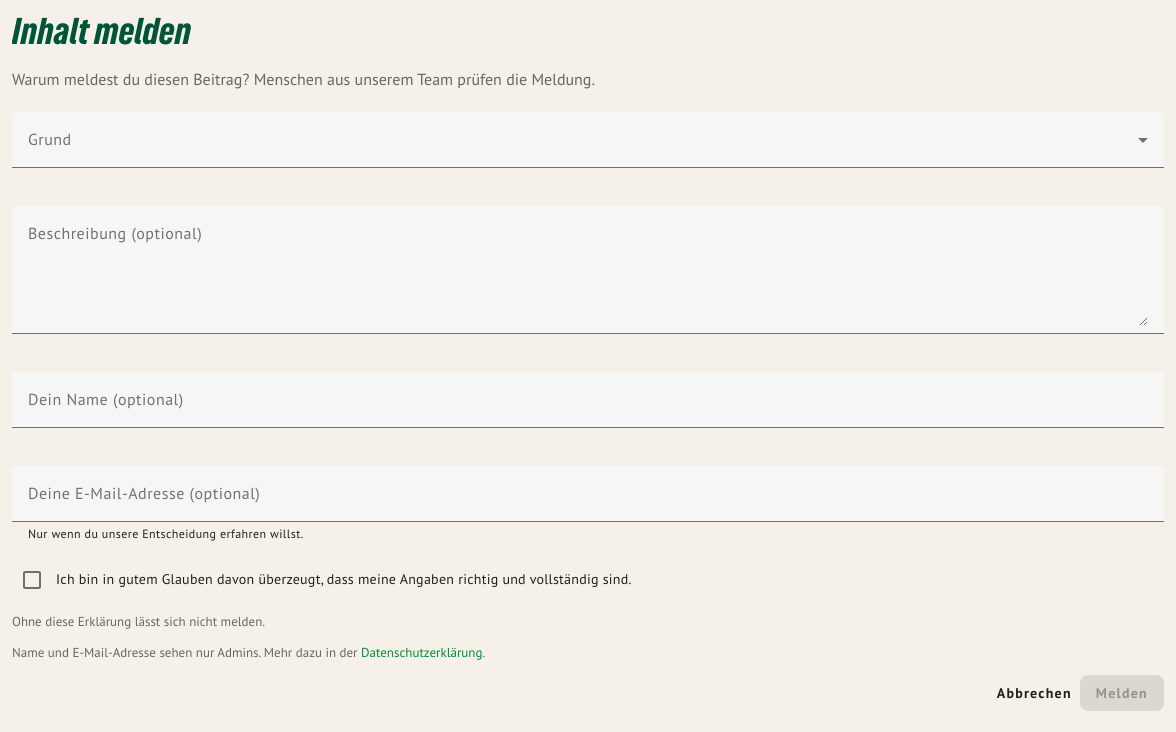
ReportDialogComponent › bittet bei 422 darum, die Angaben zu prüfen, und schreibt keine Antwort ins Log
Type "anna@beispiel.org" into the field named "melder_email" at x=588, y=502, box [28, 490, 1148, 514]
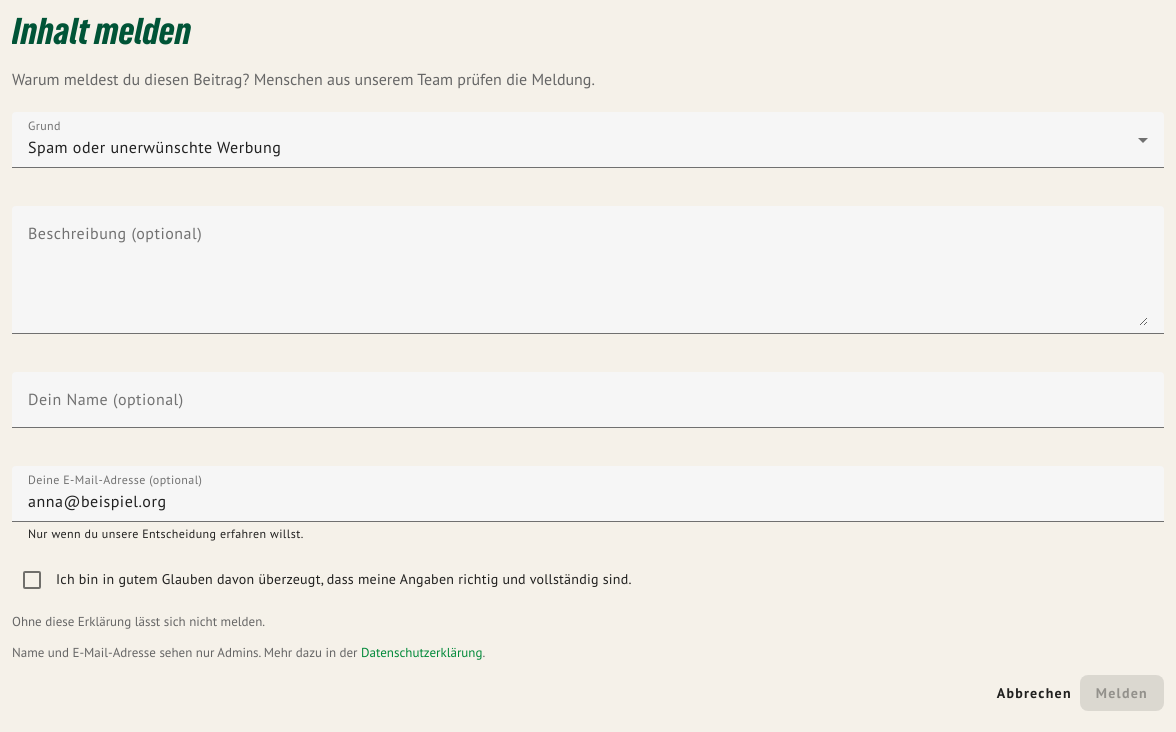
Click the checkbox at x=342, y=580, box [52, 570, 632, 590]
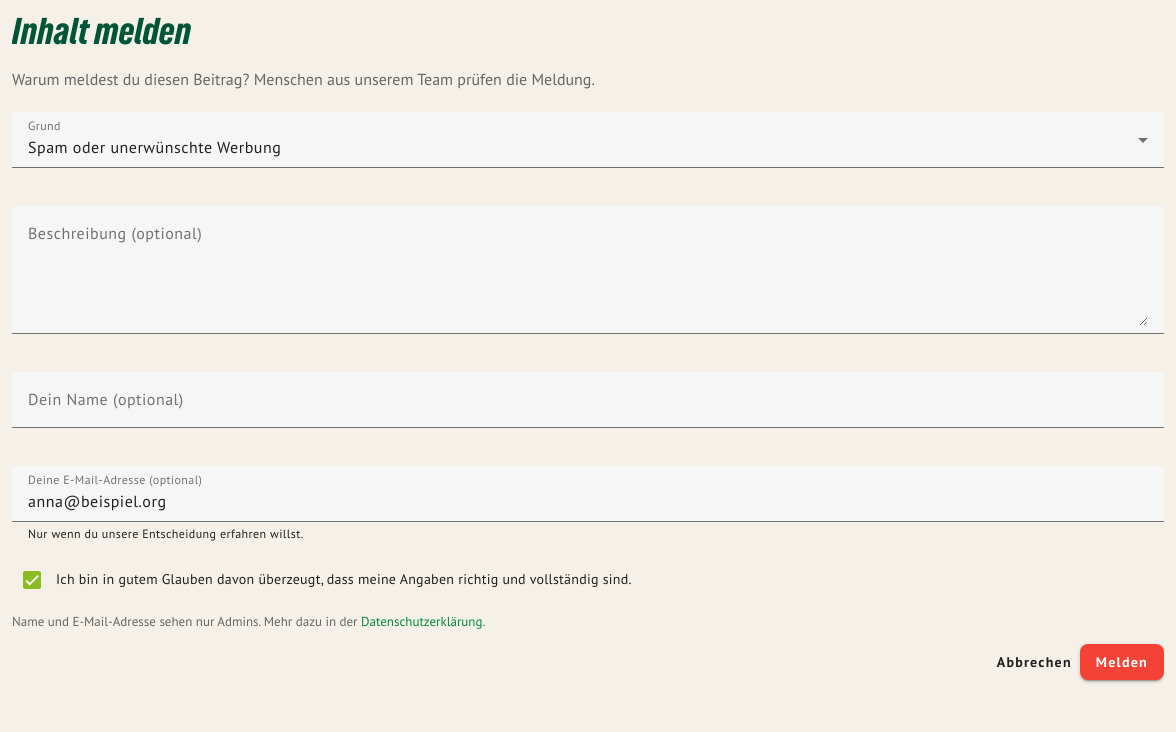
Click the button with test id "melden-senden" at x=1122, y=662, box [1080, 644, 1164, 680]
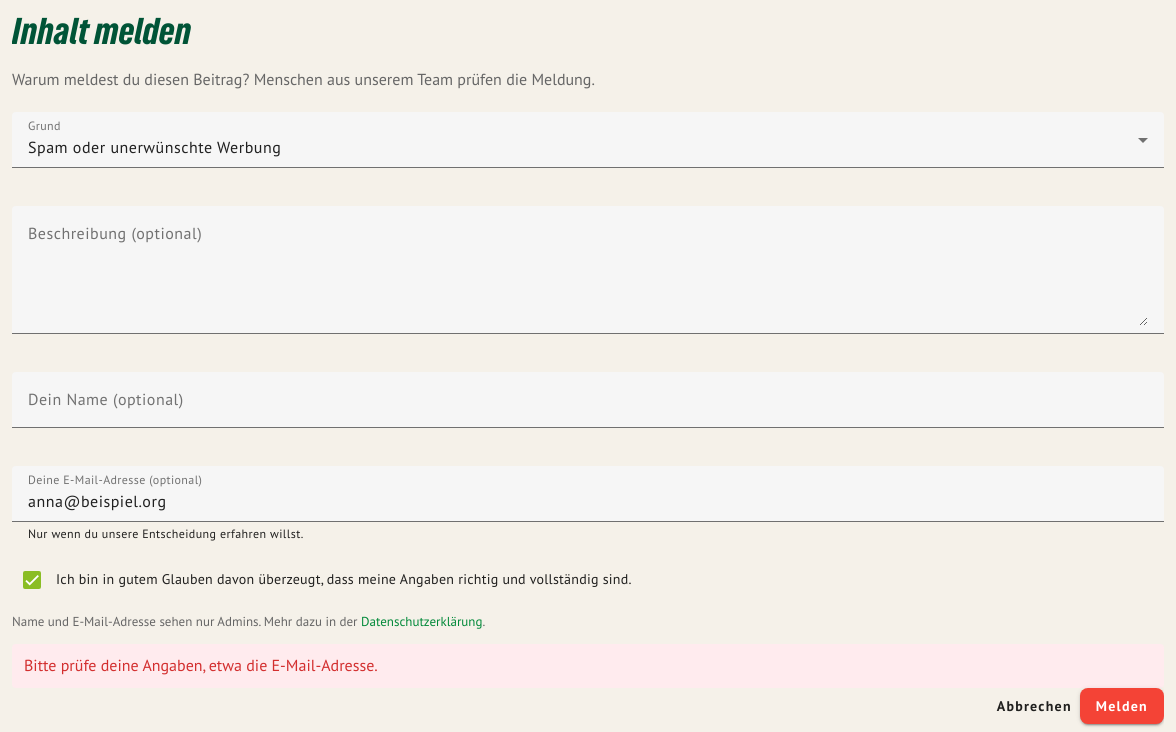
Now the text "Bitte prüfe deine Angaben, etwa die E-Mail-Adresse." is shown, box [12, 644, 1164, 688]
